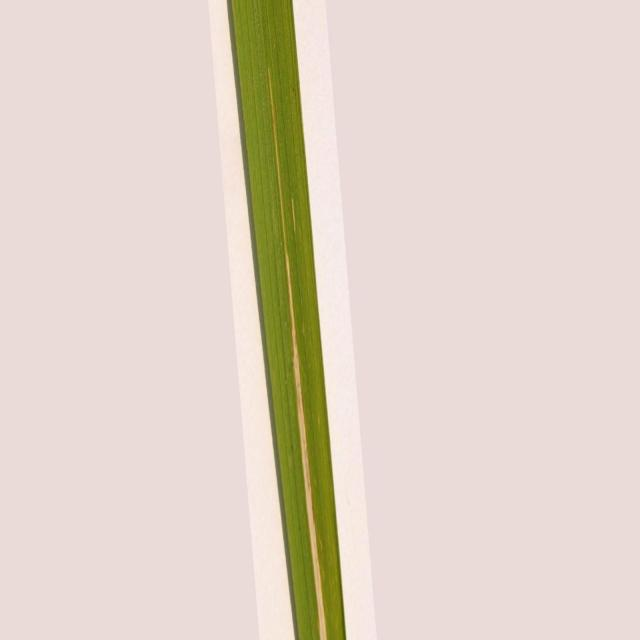Bacterial_Leaf_Blight: (285, 251, 321, 597), (271, 94, 282, 206), (318, 606, 326, 640), (290, 199, 295, 228), (281, 209, 284, 216)
